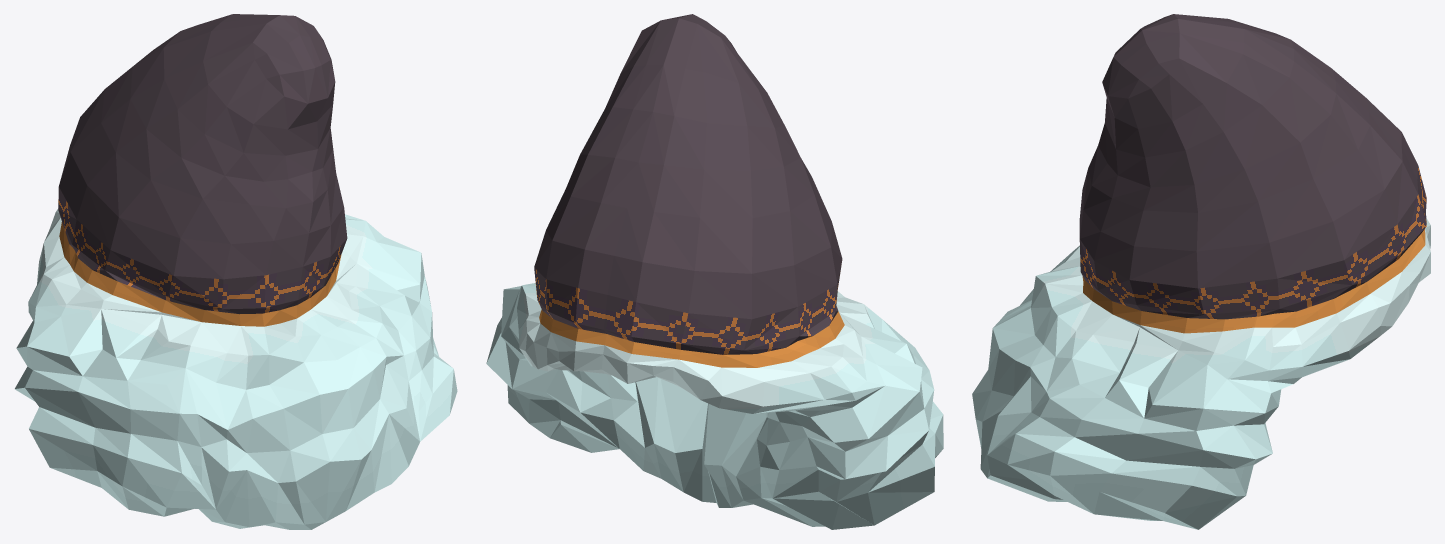
Rendered from CharSkyKid_Hair_AP06ConeHat_01.glb.
3 views of the same model, side by side, from view 1: azimuth 30°, elevation 25°; view 2: azimuth 150°, elevation 25°; view 3: azimuth 270°, elevation 25° (orthographic). The views are drawn at different scales.
Parts seen in each view (by area): view 1: CharSkyKid_Hair_AP06ConeHat_01; view 2: CharSkyKid_Hair_AP06ConeHat_01; view 3: CharSkyKid_Hair_AP06ConeHat_01.
Boxes of the visible parts, <box> form: CharSkyKid_Hair_AP06ConeHat_01: <box>15,14,457,529</box>; CharSkyKid_Hair_AP06ConeHat_01: <box>486,14,943,529</box>; CharSkyKid_Hair_AP06ConeHat_01: <box>972,14,1430,529</box>.
Size of the model in its own units: 4.4 by 4.73 by 3.96.
1 material, 1 textured.
